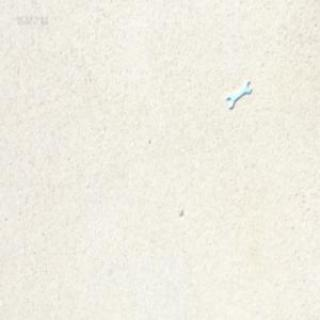Wrenchtrack_idkeyframe: (224, 82, 250, 110)
